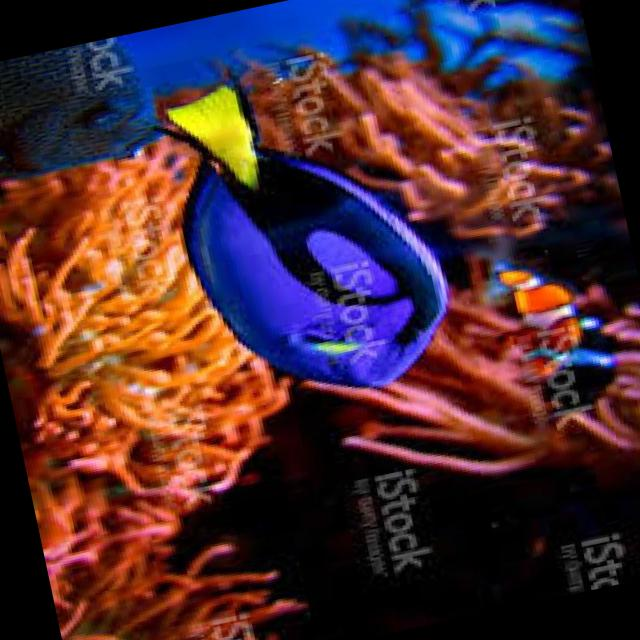BlueTang: (148, 44, 462, 428)
ClownFish: (496, 255, 592, 381)
